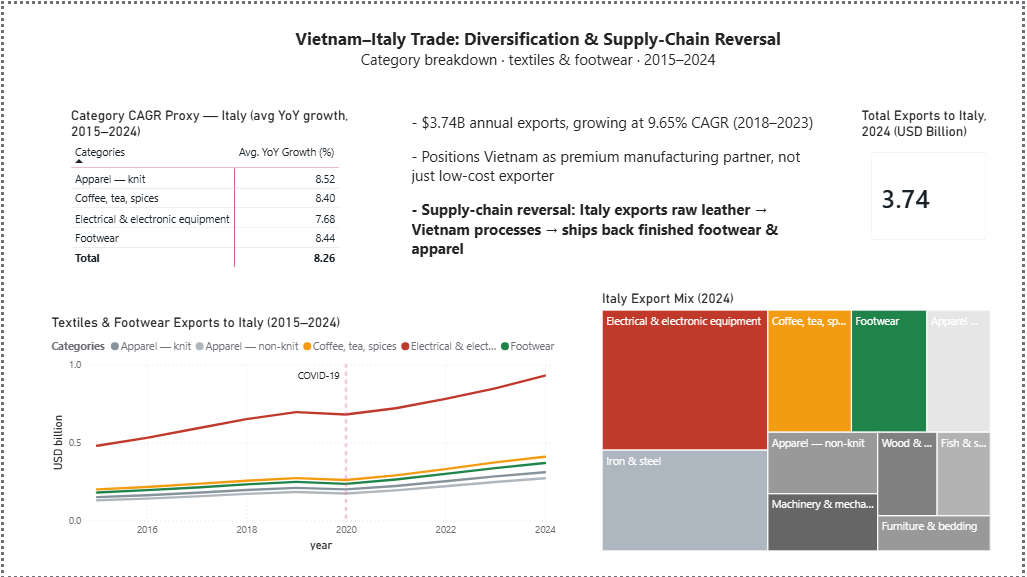

This screenshot's page, from the dashboard's own definition file:
{"tool":"powerbi","page":{"name":"Italy","canvas":[1280,720],"ordinal":3},"visuals":[{"type":"lineChart","title":"Textiles & Footwear Exports to Italy (2015–2024)","fields":{"Category":["clean_combined.year"],"Y":["Sum(clean_combined.trade_value_billion)"],"Series":["clean_combined.hs2_description"]},"box":[54.7,390.6,643.4,301.9],"z":0},{"type":"textbox","box":[507.4,130.4,523.3,203.6],"z":1000},{"type":"treemap","title":"Italy Export Mix (2024)","fields":{"Group":["clean_combined.hs2_description"],"Values":["Sum(clean_combined.trade_value_billion)"]},"box":[747.2,360.4,498.1,332.1],"z":2000},{"type":"cardVisual","title":"Total Exports to Italy, 2024 (USD Billion)","fields":{"Data":["Sum(clean_combined.trade_value_billion)"]},"box":[1073.7,130.4,179.7,184.5],"z":3000},{"type":"textbox","box":[346.6,22.7,649.5,68],"z":4000},{"type":"pivotTable","title":"Category CAGR Proxy — Italy (avg YoY growth, 2015–2024)","fields":{"Rows":["clean_combined.hs2_description"],"Values":["Avg(clean_combined.yoy_growth_pct)"]},"box":[79.4,130.4,398.7,228.7],"z":5000}]}

Visuals, with their boxes in screenshot pixels (x1, y1, x2, y2), scaled from the page's 1280x720 canvas onto the 1027x577 screenshot:
"Textiles & Footwear Exports to Italy (2015–2024)" lineChart: bbox=(44, 313, 560, 555)
textbox: bbox=(407, 105, 827, 268)
"Italy Export Mix (2024)" treemap: bbox=(600, 289, 999, 555)
"Total Exports to Italy, 2024 (USD Billion)" cardVisual: bbox=(861, 105, 1006, 252)
textbox: bbox=(278, 18, 799, 73)
"Category CAGR Proxy — Italy (avg YoY growth, 2015–2024)" pivotTable: bbox=(64, 105, 384, 288)
